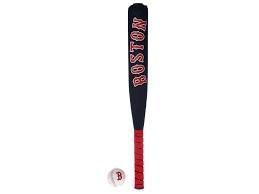Baseball-Bat: (127, 4, 160, 190)
